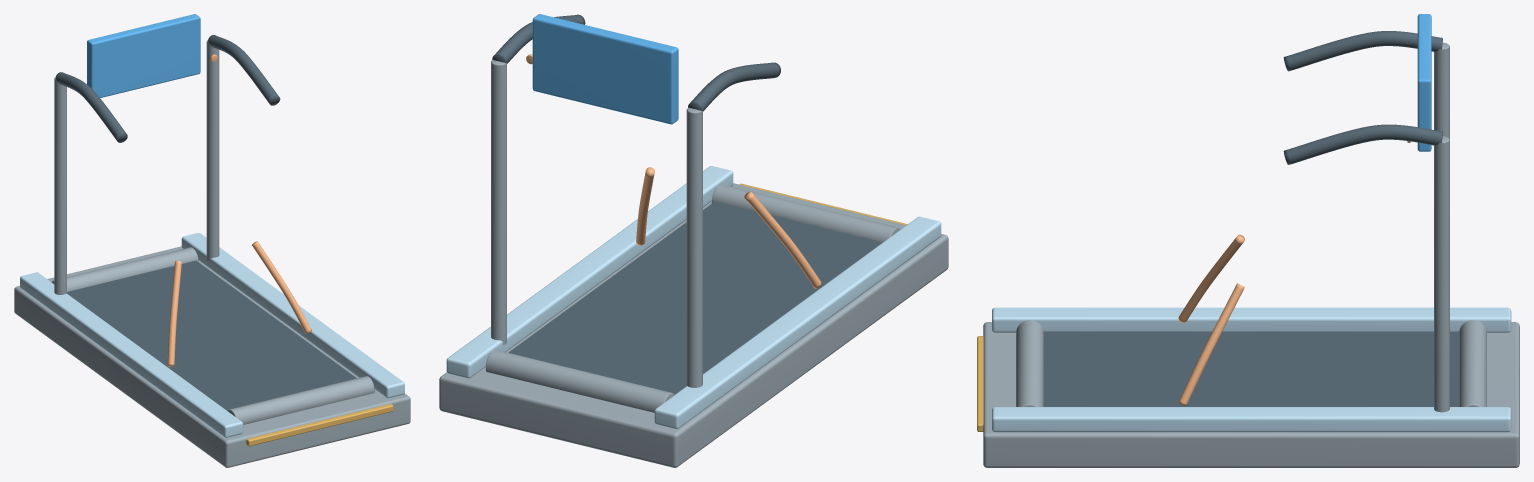
File: exercise_treadmill.glb
3 views of the same model, side by side, from view 1: azimuth 30°, elevation 25°; view 2: azimuth 150°, elevation 25°; view 3: azimuth 270°, elevation 25° (orthographic). The views are drawn at different scales.
Parts seen in each view (by area): view 1: Treadmill_Belt, Treadmill_Base, Exercise_Display_Housing, Treadmill_Rail-1, Treadmill_Rail1, Handrail_Post1, Handrail_Post-1, Roller0.64, Roller-0.64, Treadmill_Front_Safety, Handrail-1, Handrail1 (+2 smaller); view 2: Treadmill_Belt, Treadmill_Base, Exercise_Display_Housing, Treadmill_Rail-1, Treadmill_Rail1, Handrail_Post-1, Handrail_Post1, Roller-0.64, Roller0.64, Handrail-1, Exercise_Restraint-1, Handrail1 (+1 smaller); view 3: Treadmill_Belt, Treadmill_Base, Treadmill_Rail1, Treadmill_Rail-1, Handrail_Post1, Handrail1, Roller-0.64, Roller0.64, Handrail-1, Exercise_Display_Housing, Handrail_Post-1, Exercise_Restraint1 (+2 smaller).
Boxes of the visible parts, box(x1,y1,x2,y2) form: Treadmill_Belt: box(67, 260, 356, 410); Treadmill_Base: box(14, 246, 410, 467); Exercise_Display_Housing: box(87, 14, 200, 97); Treadmill_Rail-1: box(20, 272, 243, 437); Treadmill_Rail1: box(181, 233, 404, 398); Handrail_Post1: box(206, 40, 219, 261); Handrail_Post-1: box(54, 77, 66, 294); Roller0.64: box(228, 376, 374, 424); Roller-0.64: box(51, 247, 198, 291); Treadmill_Front_Safety: box(246, 404, 393, 446); Handrail-1: box(55, 72, 127, 142); Handrail1: box(208, 35, 280, 105); Treadmill_Belt: box(508, 201, 882, 394); Treadmill_Base: box(439, 183, 948, 467); Exercise_Display_Housing: box(532, 14, 678, 124); Treadmill_Rail-1: box(654, 216, 941, 429); Treadmill_Rail1: box(446, 166, 733, 378); Handrail_Post-1: box(686, 107, 702, 387); Handrail_Post1: box(491, 60, 506, 344); Roller-0.64: box(485, 350, 674, 412); Roller0.64: box(711, 184, 900, 242); Handrail-1: box(688, 62, 780, 111); Exercise_Restraint-1: box(744, 191, 821, 288); Handrail1: box(492, 14, 585, 63); Treadmill_Belt: box(1043, 331, 1459, 406); Treadmill_Base: box(983, 322, 1519, 467); Treadmill_Rail1: box(992, 407, 1511, 432); Treadmill_Rail-1: box(992, 307, 1511, 332); Handrail_Post1: box(1434, 136, 1449, 412); Handrail1: box(1283, 124, 1442, 164); Roller-0.64: box(1459, 320, 1486, 406); Roller0.64: box(1016, 320, 1043, 406); Handrail-1: box(1283, 31, 1442, 71); Exercise_Display_Housing: box(1417, 14, 1431, 151); Handrail_Post-1: box(1434, 42, 1449, 139); Exercise_Restraint1: box(1178, 283, 1244, 406).
Bounding box in the file's own units: 0.78 × 1.16 × 1.57.
